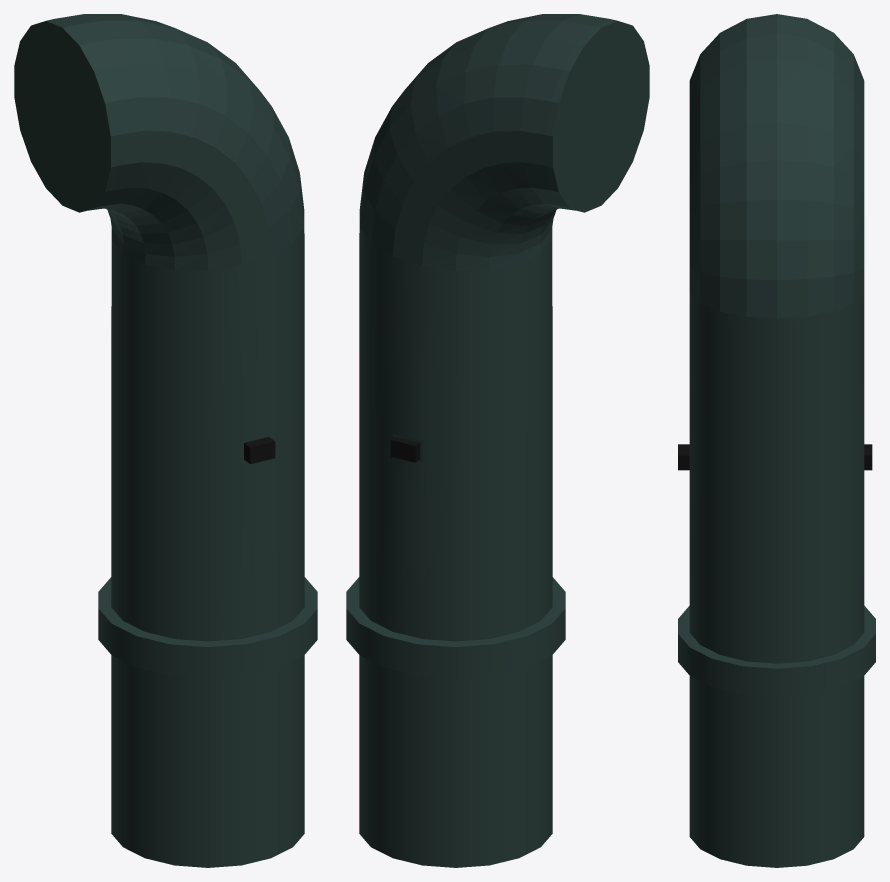
Rendered from 3e tuyau.fbx.
3 renders of one model, left to right at view 1: azimuth 30°, elevation 25°; view 2: azimuth 150°, elevation 25°; view 3: azimuth 270°, elevation 25°, orthographic. The views are drawn at different scales.
Parts seen in each view (by area): view 1: Cylinder005; view 2: Cylinder005; view 3: Cylinder005.
Boxes of the visible parts, <box> form: Cylinder005: <box>14,14,317,867</box>; Cylinder005: <box>346,14,649,867</box>; Cylinder005: <box>678,14,875,867</box>.
Size of the model in its own units: 107 by 354 by 84.37.
